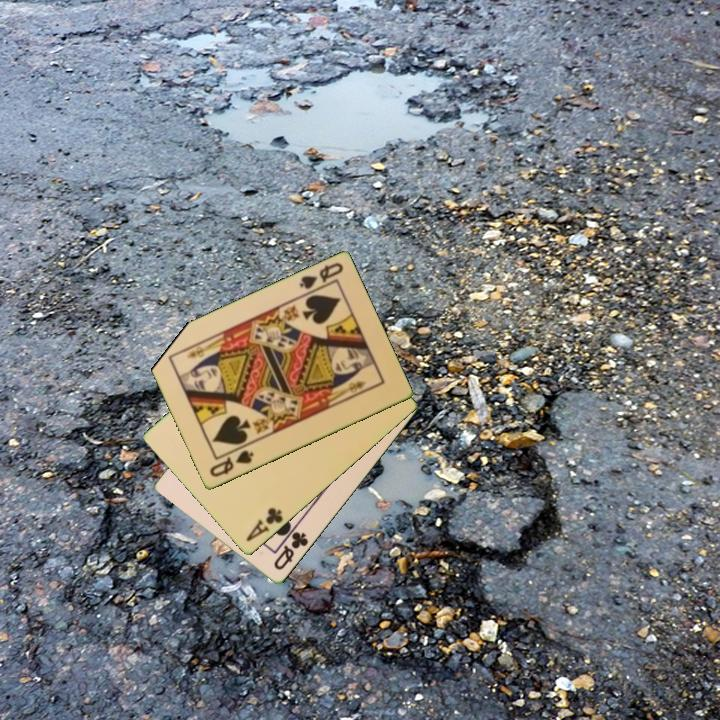Ac: (243, 504, 286, 545)
Qc: (270, 528, 311, 573)
Qs: (296, 259, 346, 298), (206, 447, 257, 480)
